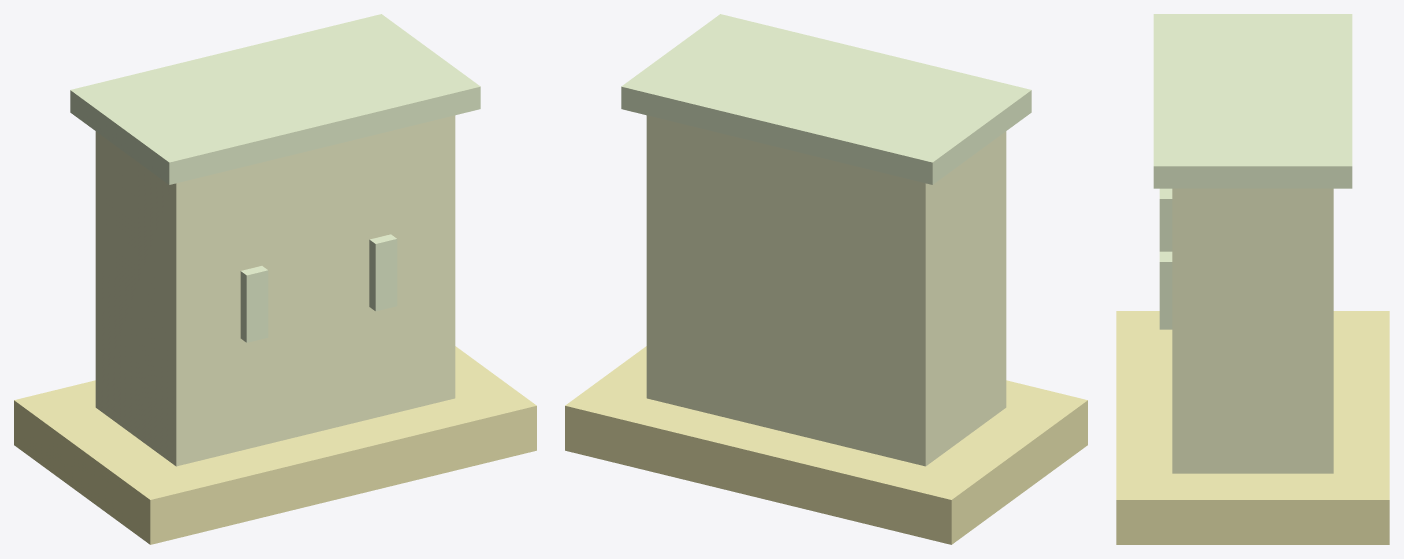
File: furniture_rail_crossing_relay_case.glb
3 views of the same model, side by side, from view 1: azimuth 30°, elevation 25°; view 2: azimuth 150°, elevation 25°; view 3: azimuth 270°, elevation 25° (orthographic).
Parts seen in each view (by area): view 1: case_body, pad, lid, left_latch, right_latch; view 2: case_body, pad, lid; view 3: case_body, pad, lid, right_latch, left_latch.
Boxes of the visible parts, left/top/right/bottom form: case_body: left=95, top=115, right=455, bottom=466; pad: left=14, top=346, right=536, bottom=544; lid: left=70, top=14, right=480, bottom=184; left_latch: left=240, top=266, right=268, bottom=342; right_latch: left=369, top=234, right=397, bottom=311; case_body: left=646, top=115, right=1006, bottom=466; pad: left=565, top=346, right=1087, bottom=544; lid: left=621, top=14, right=1031, bottom=184; case_body: left=1172, top=188, right=1333, bottom=473; pad: left=1116, top=311, right=1389, bottom=544; lid: left=1153, top=14, right=1352, bottom=188; right_latch: left=1159, top=251, right=1172, bottom=329; left_latch: left=1159, top=188, right=1172, bottom=251.
Bounding box in the file's own units: 0.72 × 0.64 × 0.44.
